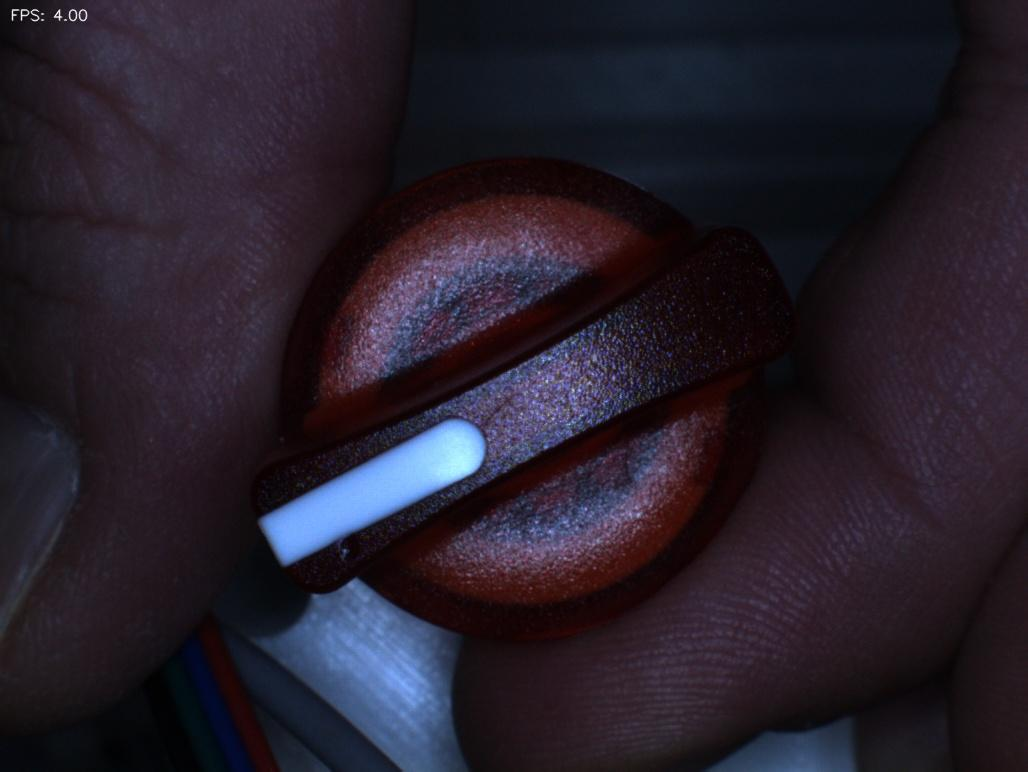Choc: (301, 512, 406, 594)
